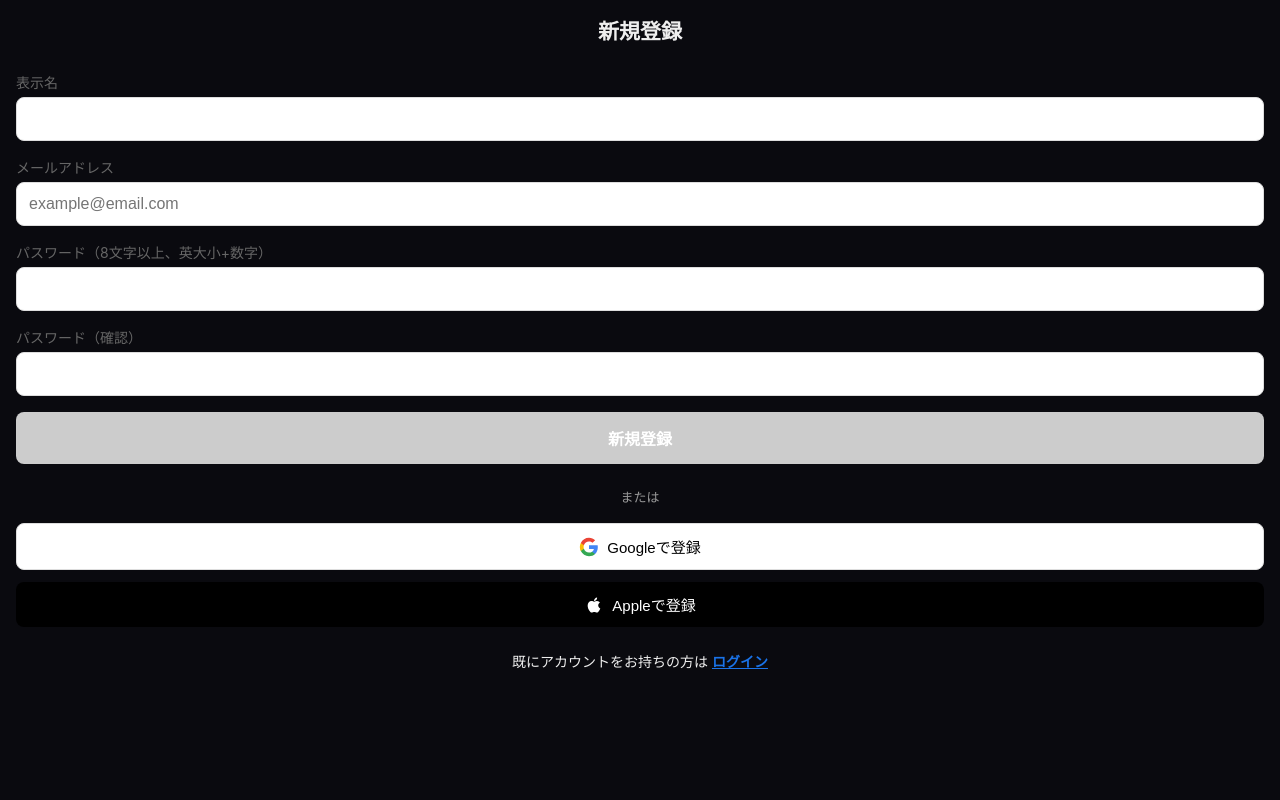
SignUpPage › 全フィールドが有効な場合は新規登録ボタンが有効
Type "テストユーザー" into the field labelled "表示名" at [640, 118], box [16,96,1264,140]
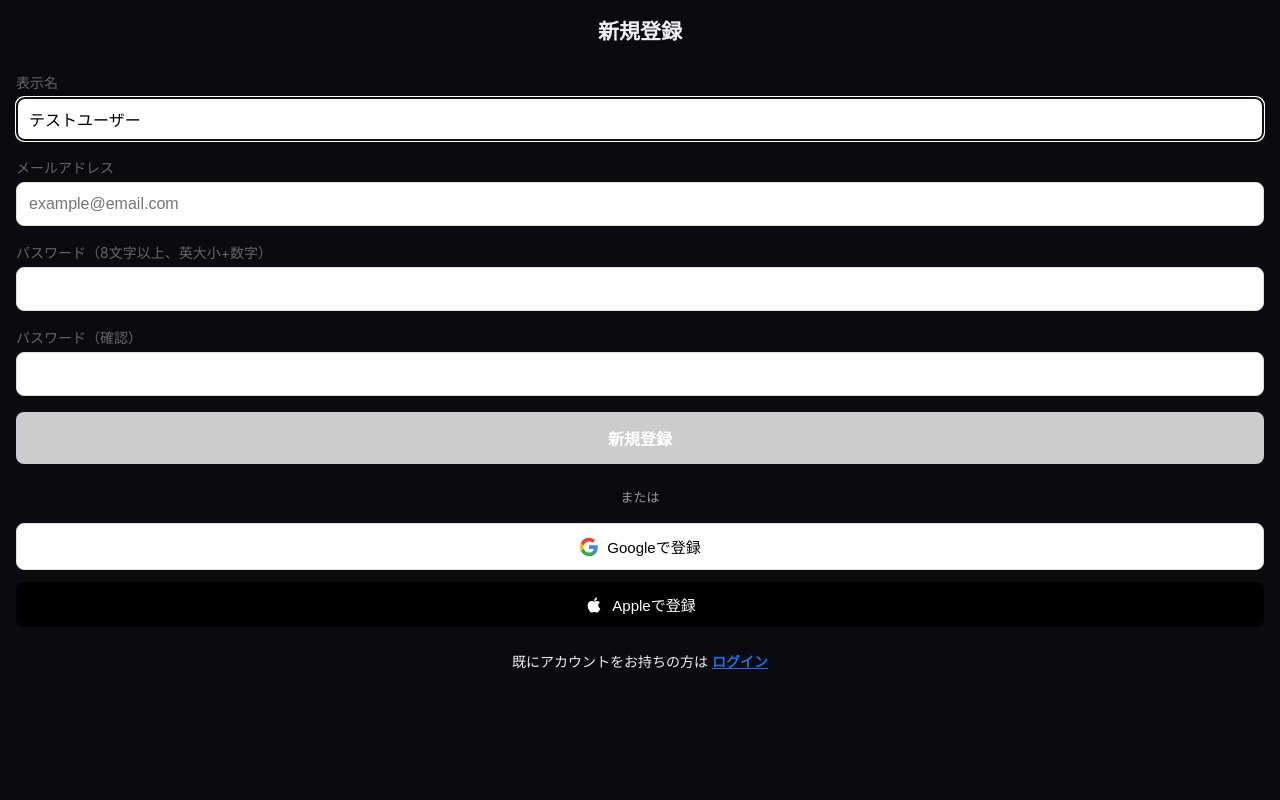
Type "test@example.com" into the field labelled "メールアドレス" at [640, 204], box [16,182,1264,226]
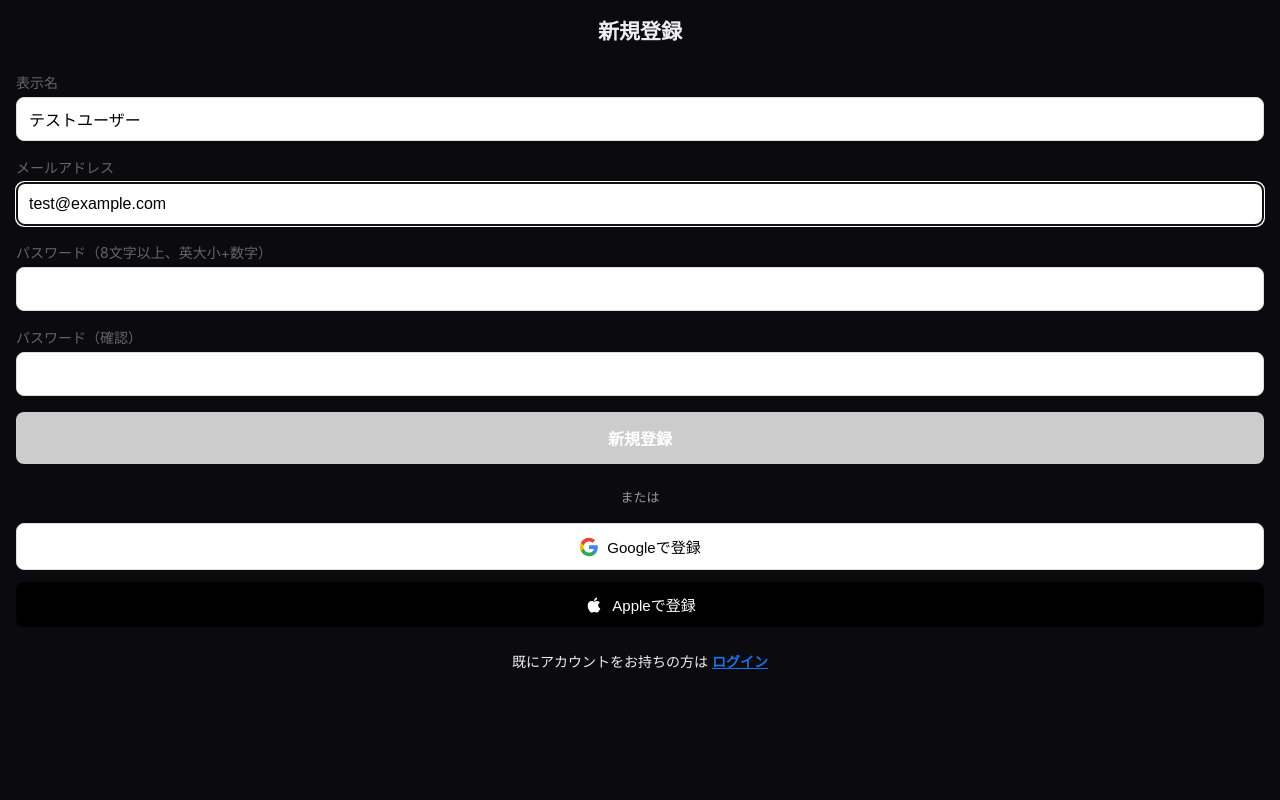
Type "Password1" into the password field labelled "パスワード（8文字以上、英大小+数字）" at [640, 288], box [16,266,1264,310]
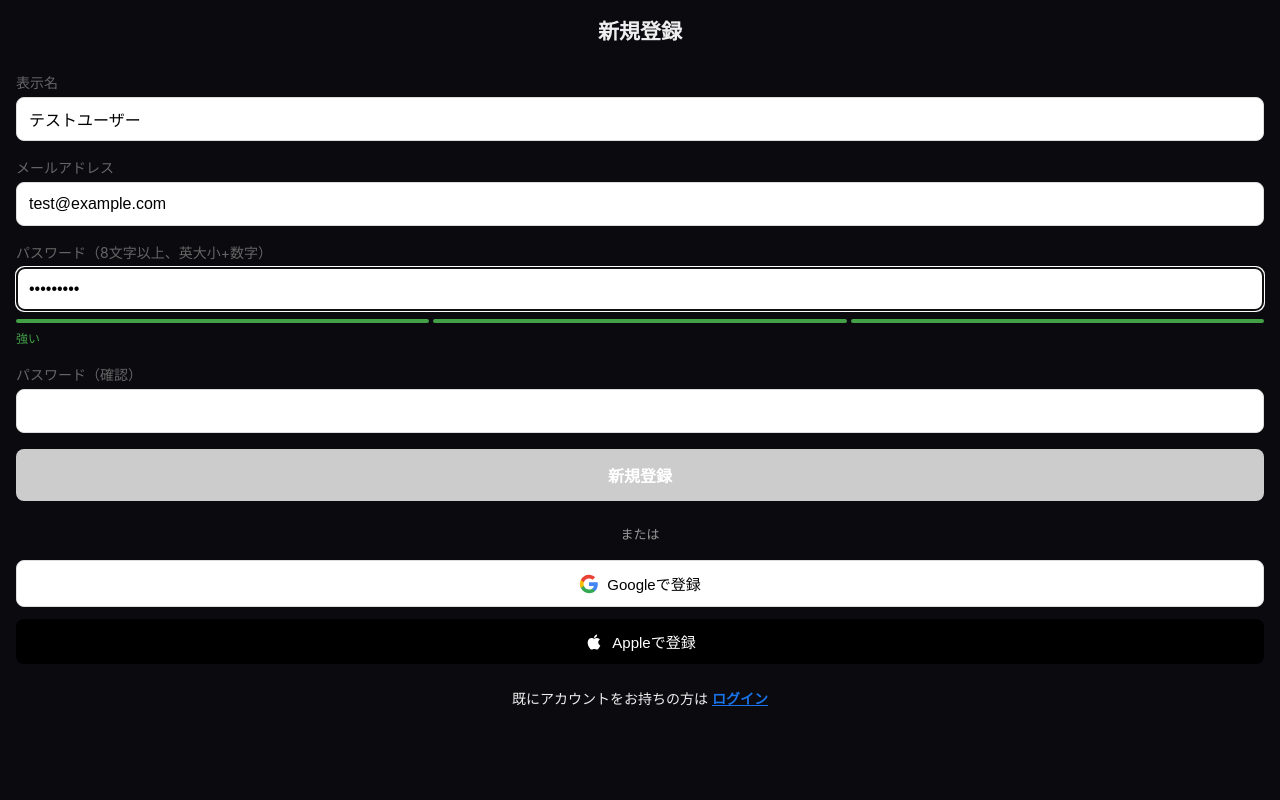
Type "Password1" into the password field labelled "パスワード（確認）" at [640, 410], box [16,388,1264,432]
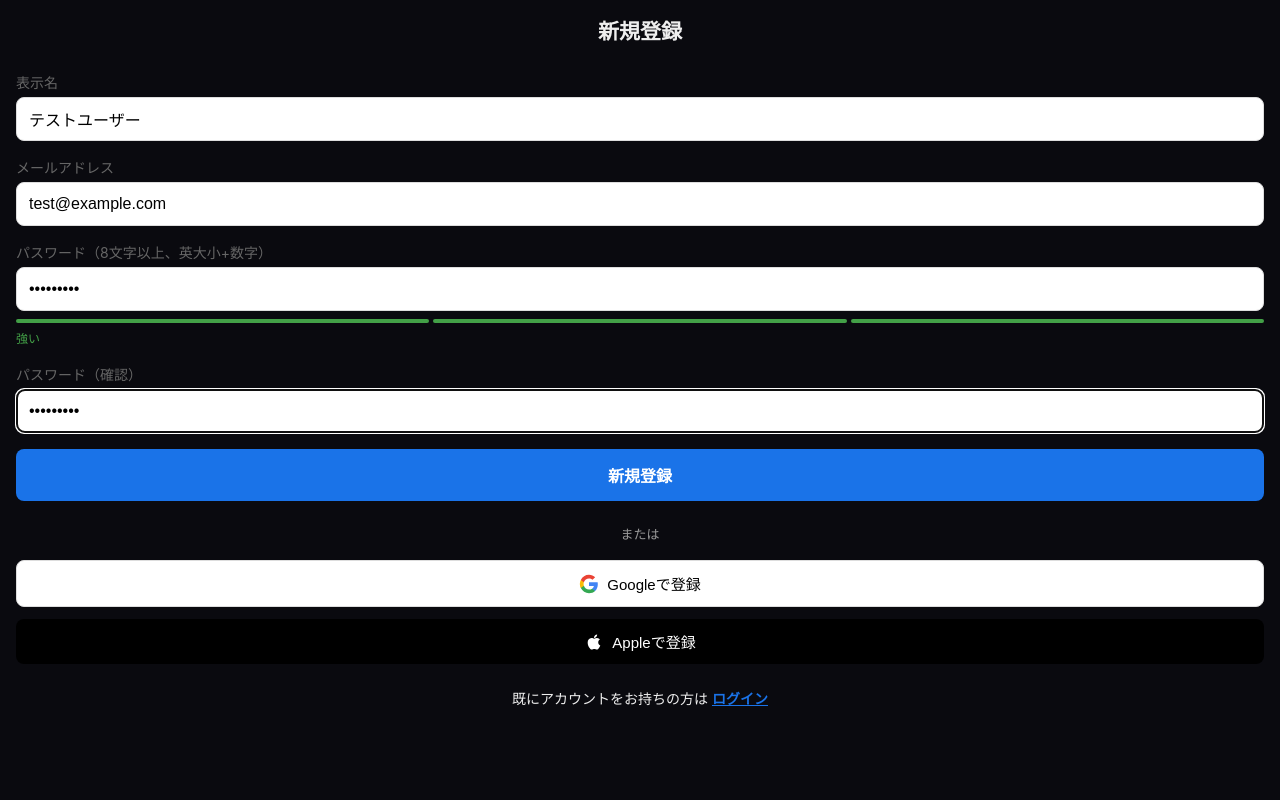
Now the button "新規登録" is enabled, box [16,448,1264,500]
